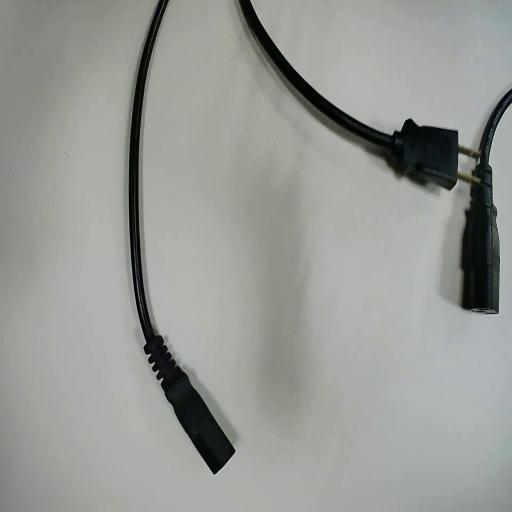wire: (129, 0, 233, 472), (239, 0, 469, 188), (461, 90, 511, 310)
